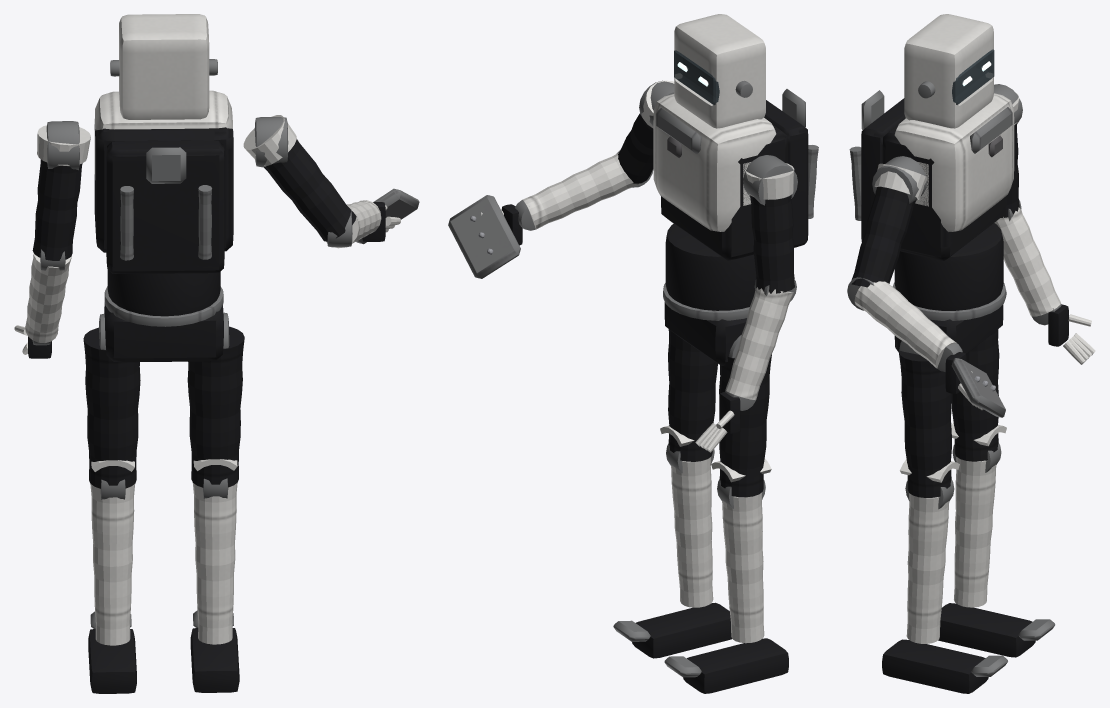
The model's file is optimus_bot.glb.
The picture shows the model from 3 angles, left to right: view 1: azimuth 30°, elevation 25°; view 2: azimuth 150°, elevation 25°; view 3: azimuth 270°, elevation 25°; orthographic projection. The views are drawn at different scales.
Visible parts, largest first — view 1: backpack, head, leg_l_thigh, leg_r_thigh, leg_l_shin, leg_r_shin, pelvis, waist, torso_frame, arm_r_upper, arm_l_upper, arm_l_fore (+13 smaller); view 2: chest, head, waist, leg_r_shin, leg_l_shin, leg_r_thigh, leg_l_thigh, arm_l_fore, leg_l_foot, arm_r_fore, arm_l_upper, service_panel (+14 smaller); view 3: chest, head, waist, leg_r_thigh, leg_r_shin, leg_l_shin, torso_frame, arm_r_upper, leg_r_foot, arm_r_fore, leg_l_foot, arm_l_fore (+17 smaller).
Part boxes in pixels (left/top/right/bottom): backpack: left=106, top=140, right=224, bottom=273; head: left=119, top=14, right=209, bottom=119; leg_l_thigh: left=83, top=327, right=140, bottom=488; leg_r_thigh: left=187, top=326, right=244, bottom=487; leg_l_shin: left=90, top=484, right=134, bottom=645; leg_r_shin: left=193, top=482, right=237, bottom=644; pelvis: left=104, top=302, right=223, bottom=362; waist: left=107, top=270, right=220, bottom=316; torso_frame: left=94, top=124, right=233, bottom=252; arm_r_upper: left=264, top=139, right=356, bottom=241; arm_l_upper: left=32, top=159, right=82, bottom=260; arm_l_fore: left=25, top=252, right=71, bottom=342; chest: left=653, top=94, right=776, bottom=231; head: left=674, top=14, right=765, bottom=128; waist: left=665, top=224, right=756, bottom=310; leg_r_shin: left=671, top=457, right=713, bottom=607; leg_l_shin: left=722, top=492, right=764, bottom=643; leg_r_thigh: left=668, top=329, right=717, bottom=461; leg_l_thigh: left=719, top=354, right=771, bottom=497; arm_l_fore: left=725, top=287, right=793, bottom=399; leg_l_foot: left=683, top=638, right=788, bottom=693; arm_r_fore: left=522, top=153, right=640, bottom=229; arm_l_upper: left=750, top=194, right=794, bottom=293; service_panel: left=448, top=195, right=520, bottom=278; chest: left=894, top=93, right=1014, bottom=231; head: left=904, top=14, right=993, bottom=128; waist: left=894, top=223, right=1003, bottom=310; leg_r_thigh: left=898, top=350, right=951, bottom=497; leg_r_shin: left=906, top=493, right=949, bottom=643; leg_l_shin: left=954, top=457, right=996, bottom=607; torso_frame: left=882, top=125, right=1006, bottom=260; arm_r_upper: left=851, top=186, right=916, bottom=287; leg_r_foot: left=882, top=639, right=988, bottom=693; arm_r_fore: left=854, top=281, right=956, bottom=368; leg_l_foot: left=938, top=603, right=1035, bottom=657; arm_l_fore: left=994, top=207, right=1060, bottom=316.
Size of the model in its own units: 0.9847 by 1.66 by 0.5972.
7 materials, 4 textured.
